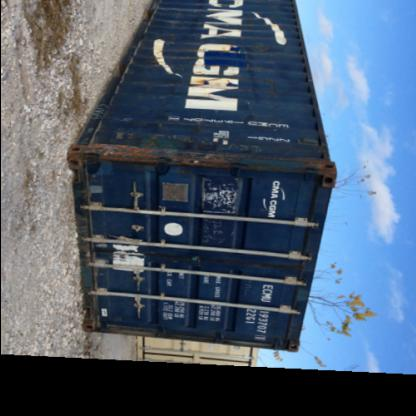Damage: (76, 122, 246, 167), (199, 180, 242, 244), (240, 35, 264, 103), (139, 41, 182, 73), (304, 156, 335, 186), (198, 70, 232, 92)
